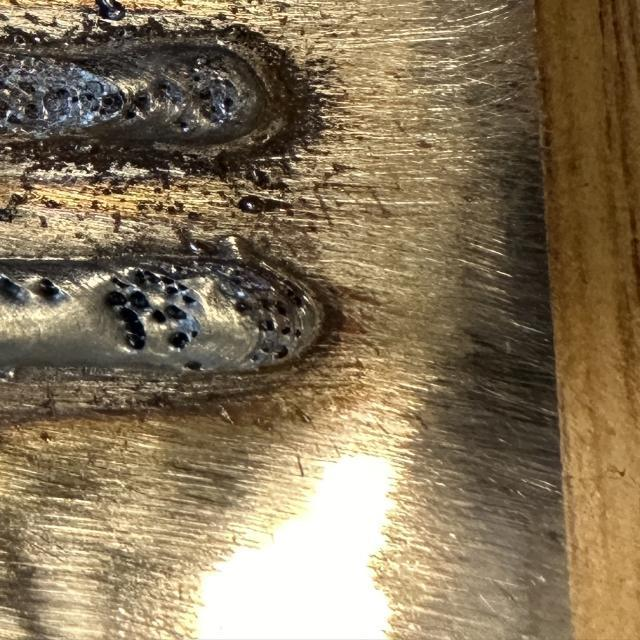Excess Reinforcement: (0, 16, 317, 182), (217, 236, 257, 264)
Porosity: (0, 54, 125, 136), (118, 308, 145, 350), (280, 275, 307, 301), (0, 274, 23, 301), (252, 344, 288, 361), (38, 278, 62, 299), (18, 102, 42, 121), (102, 92, 123, 112), (133, 90, 152, 112), (12, 79, 37, 95), (168, 332, 190, 349), (120, 105, 142, 120), (165, 305, 187, 320), (132, 291, 150, 309), (162, 276, 178, 296), (105, 291, 127, 305), (287, 289, 303, 306), (143, 270, 162, 284), (174, 265, 195, 276), (258, 319, 277, 331), (133, 269, 147, 285), (112, 278, 130, 289), (157, 79, 173, 91), (235, 300, 251, 312), (78, 90, 95, 101), (152, 310, 167, 322), (275, 301, 287, 316), (185, 361, 202, 371), (55, 88, 70, 99), (92, 105, 108, 115), (198, 89, 212, 100), (7, 114, 22, 124), (261, 299, 273, 311), (182, 295, 197, 304), (178, 121, 190, 132), (220, 79, 235, 87), (228, 268, 242, 276), (207, 104, 218, 114), (230, 276, 242, 285), (223, 98, 233, 108), (177, 282, 188, 291), (189, 330, 200, 339), (282, 326, 290, 335), (295, 329, 302, 338), (192, 75, 199, 83), (72, 95, 78, 102)
Spatters: (96, 0, 127, 20), (237, 195, 265, 214), (182, 239, 213, 254), (0, 366, 15, 381), (75, 144, 93, 154), (40, 431, 52, 442)
